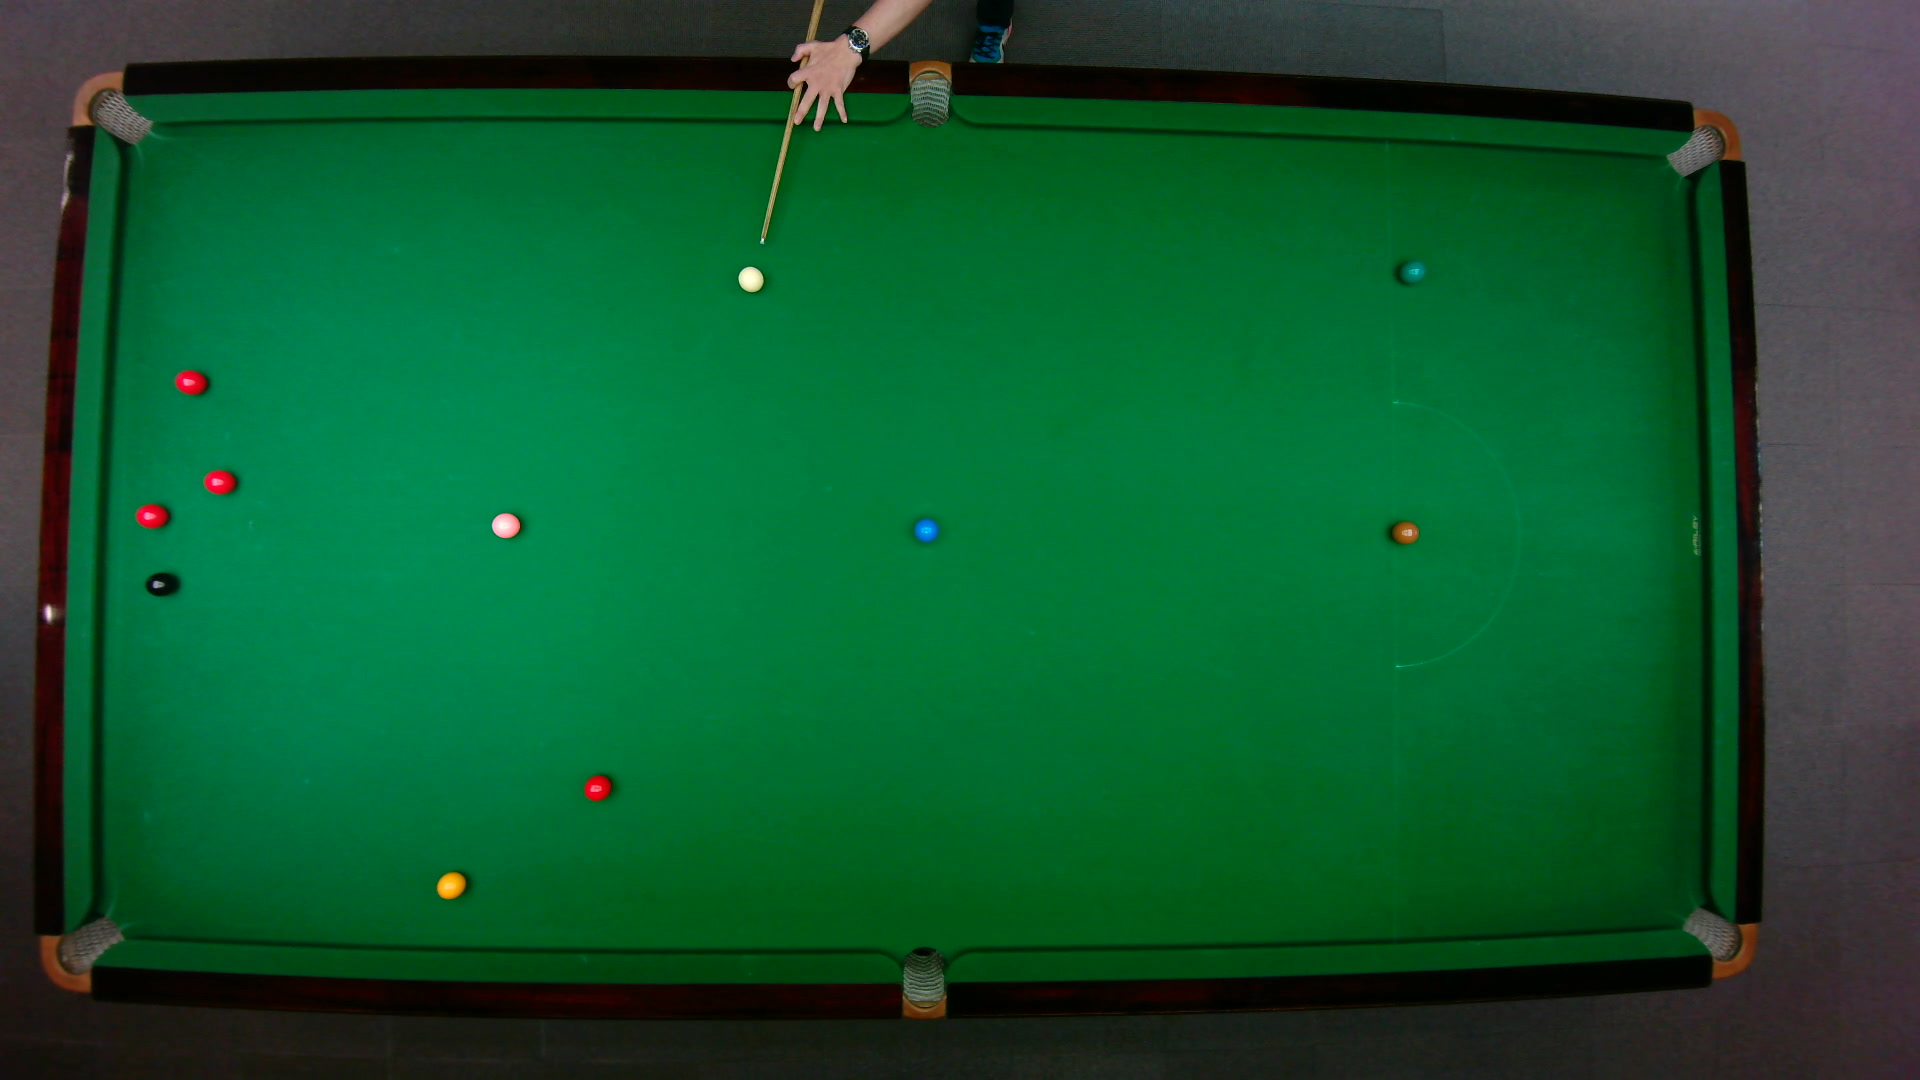bag: (37, 914, 125, 992), (69, 69, 153, 145), (1677, 905, 1756, 978), (1663, 107, 1741, 177), (901, 944, 945, 1021), (909, 57, 951, 128)
black: (142, 571, 175, 596)
blue: (911, 516, 939, 543)
brown: (1390, 520, 1419, 545)
cue: (757, 0, 827, 245)
green: (1396, 258, 1425, 284)
pink: (489, 510, 521, 539)
red: (171, 368, 208, 396), (202, 467, 236, 495), (133, 501, 169, 527), (582, 771, 612, 800)
white: (735, 264, 765, 293)
yellow: (434, 869, 465, 899)
zone: (1389, 400, 1520, 669)
